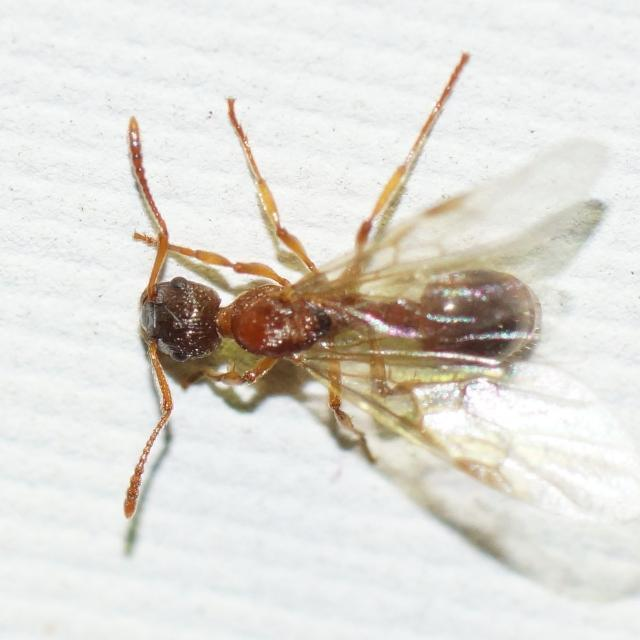Myrmica: (46, 163, 558, 445)
